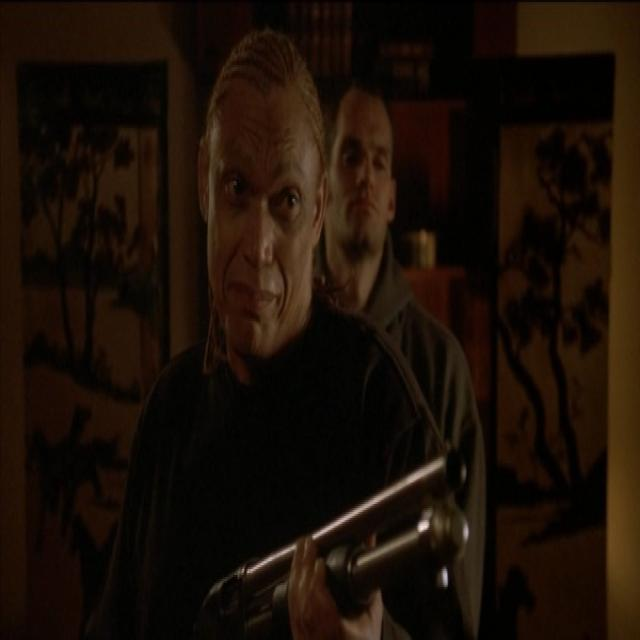rifle: (195, 438, 474, 640)
